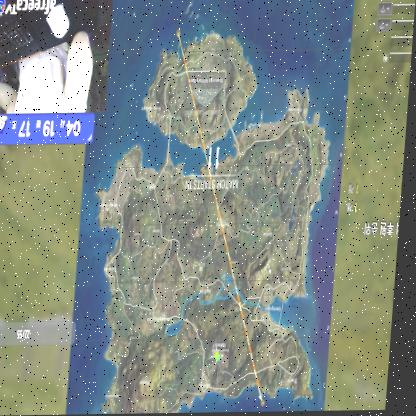streamer: (0, 31, 97, 114)
